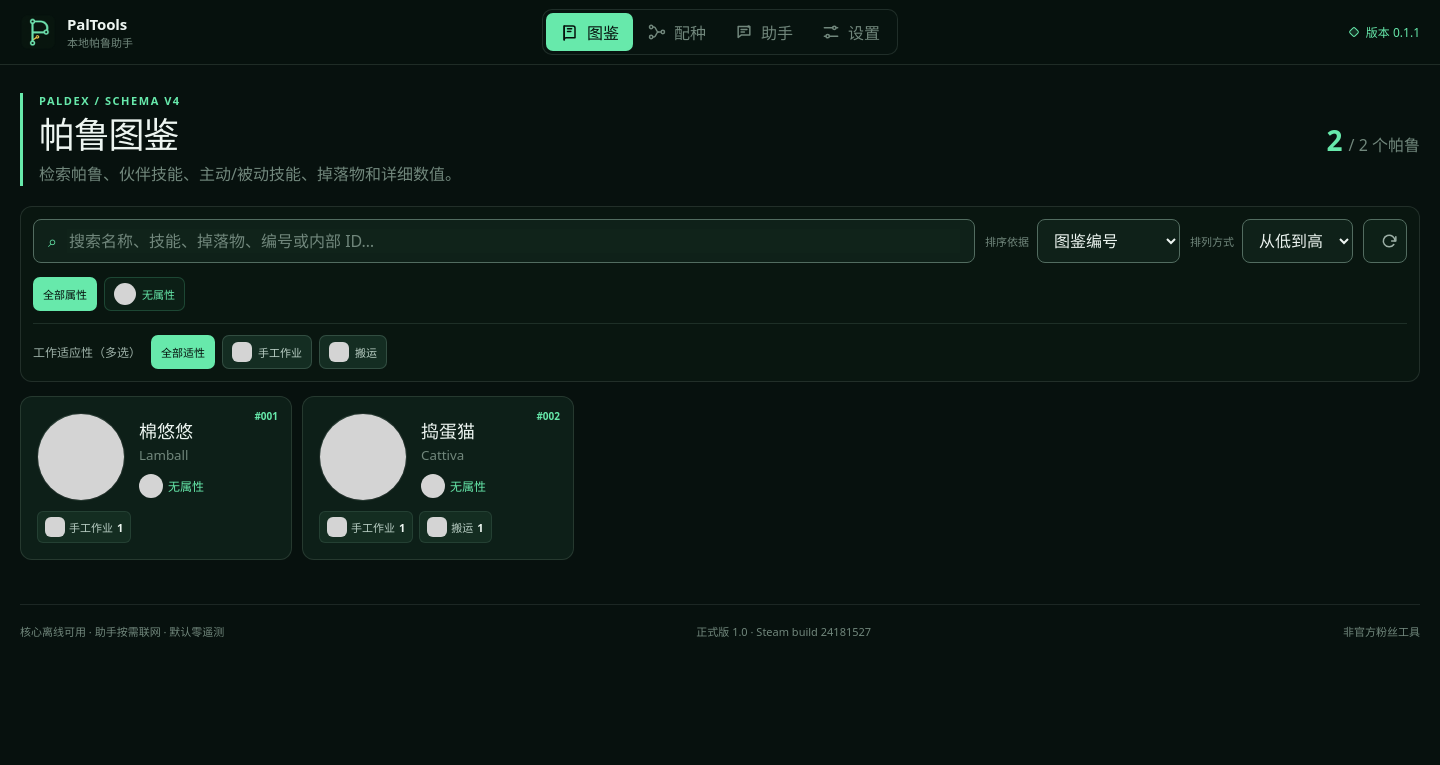
App › shows high rarity as rainbow stars and hides empty intrinsic traits
The width and height of the screenshot is (1440, 765).
Expected: the text "捣蛋猫" is shown, [421,419,475,443]
Click the button "#002 捣蛋猫 Cattiva 无属性 手工作业 1 搬运 1" at (438, 478), box [302,396,574,560]
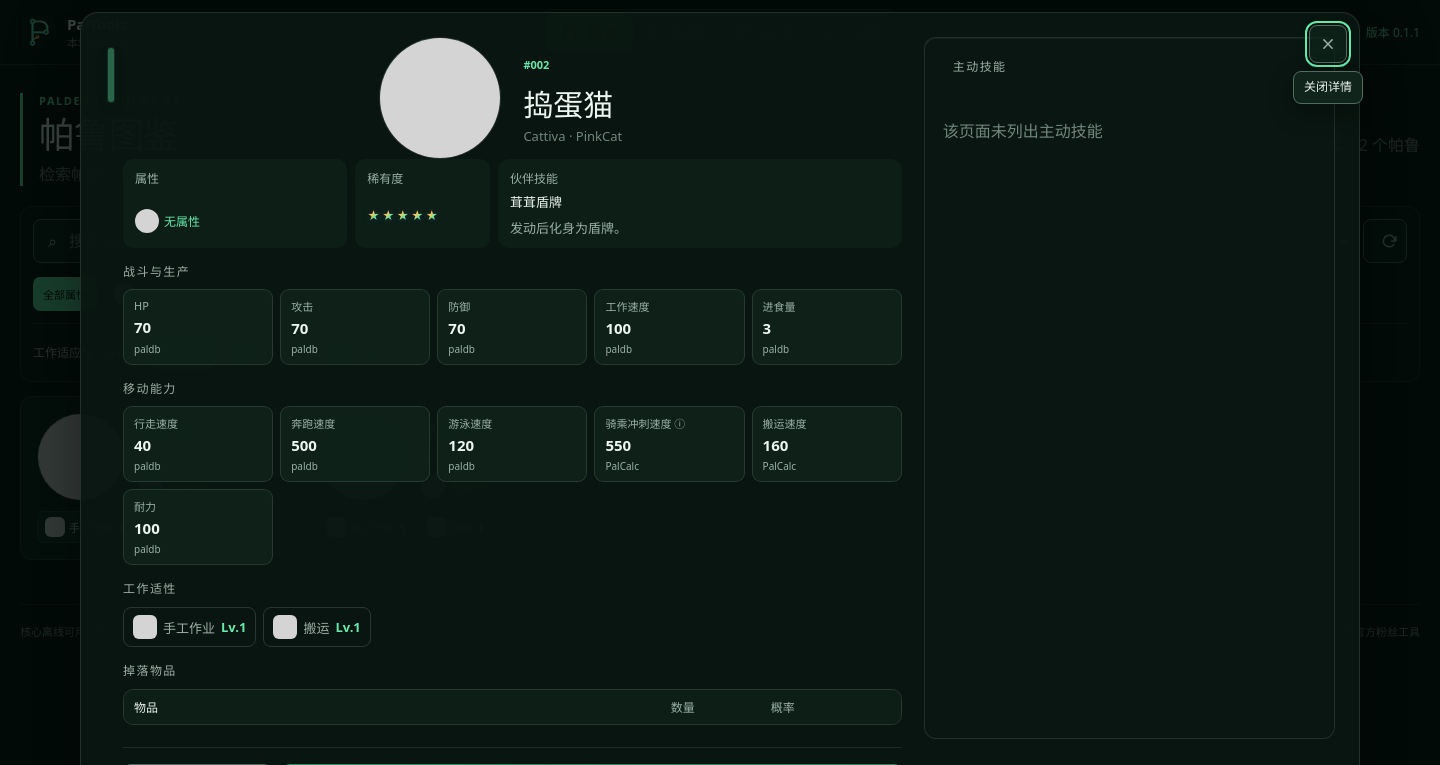
Now the picture named "稀有度 10" is shown, box [367,210,438,222]
Now the number of elements with class "rarity-star--rainbow" is 5, box [367,210,380,222]; [382,210,394,222]; [396,210,409,222]; [411,210,424,222]; [426,210,438,222]
